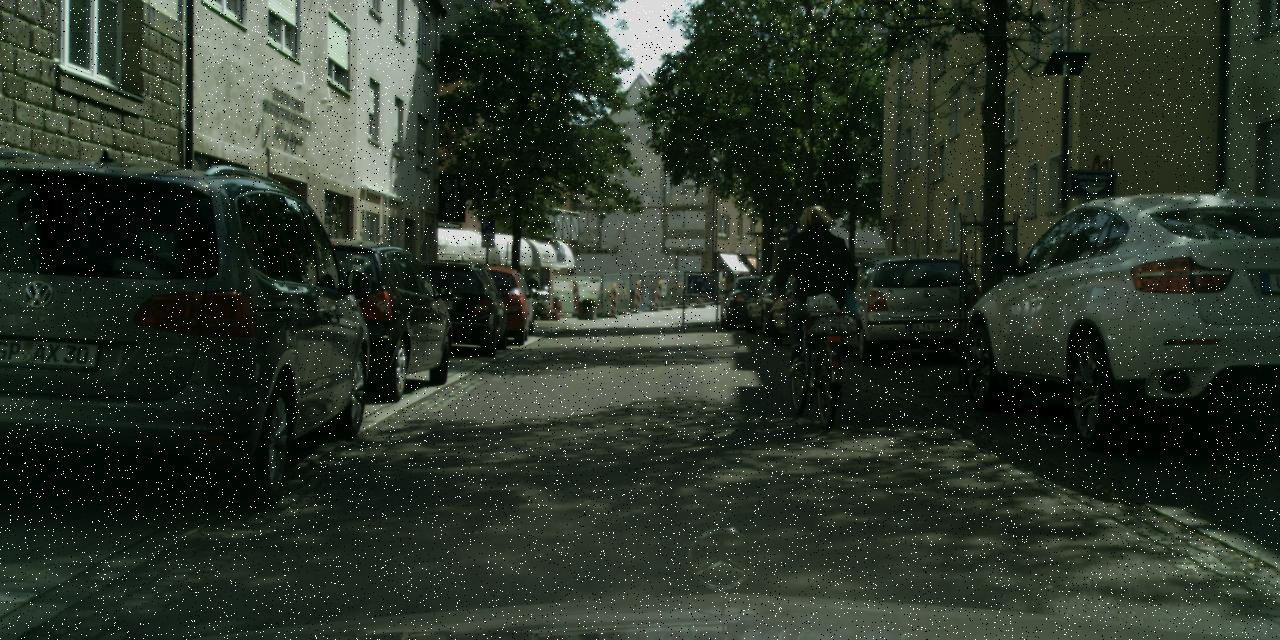ped: (780, 204, 856, 388)
